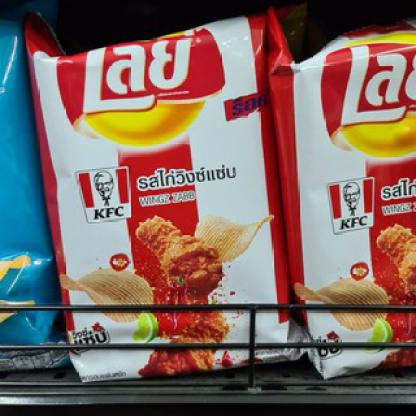potatochip: (17, 5, 315, 390), (256, 0, 415, 393), (0, 4, 77, 378)
